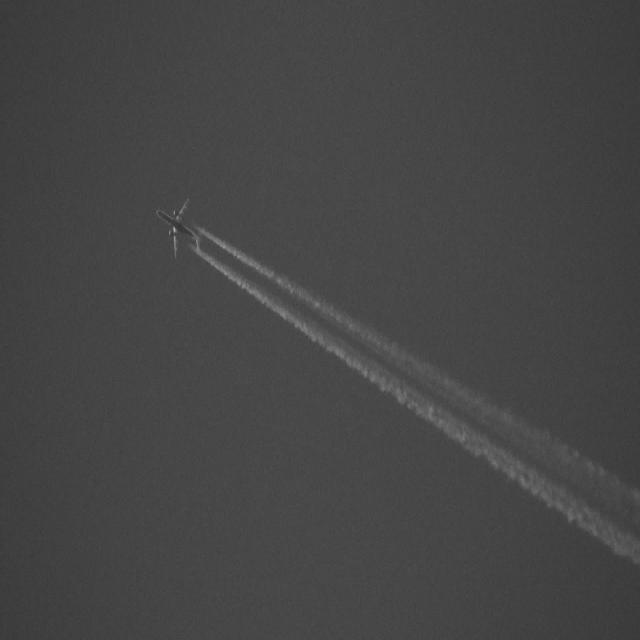aeroplane: (156, 190, 206, 266)
